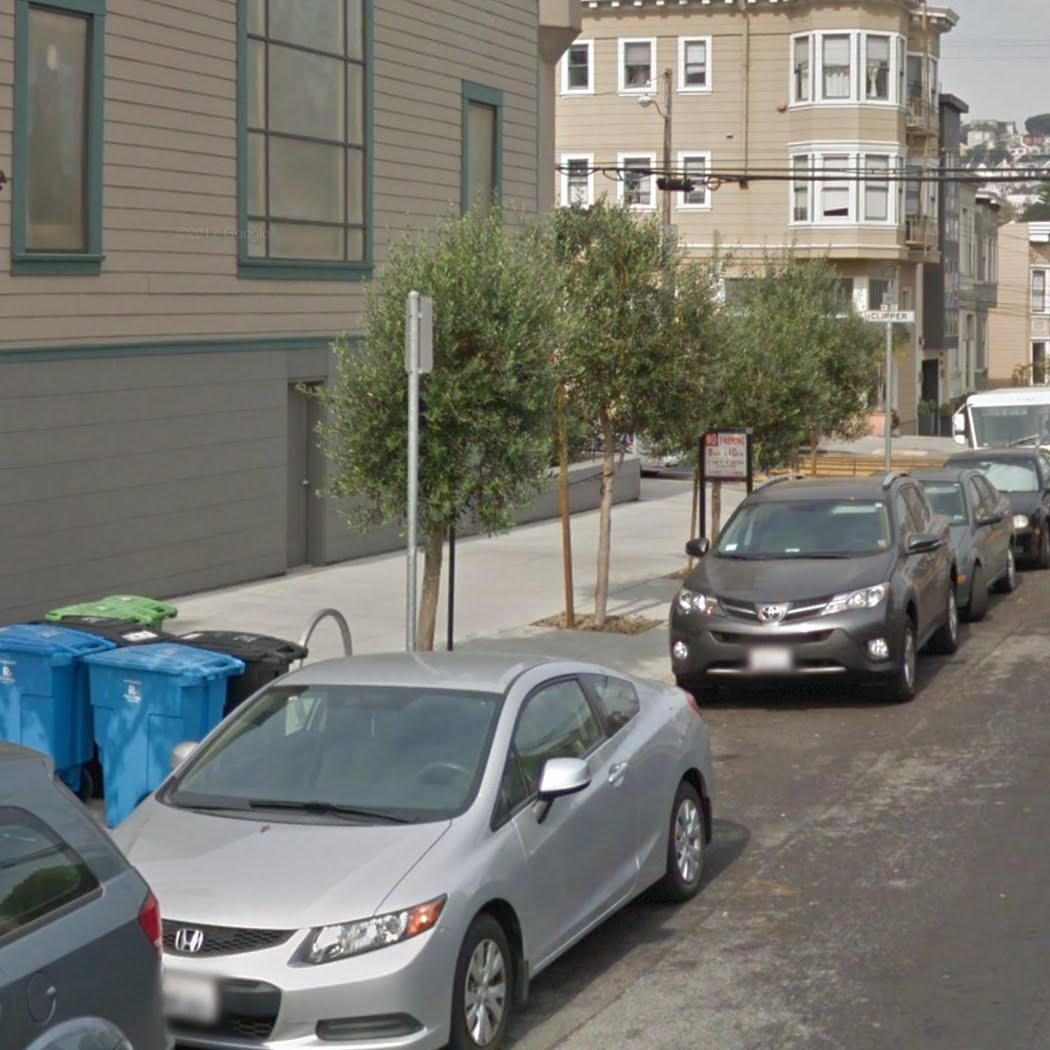No Parking: (697, 428, 751, 484)
